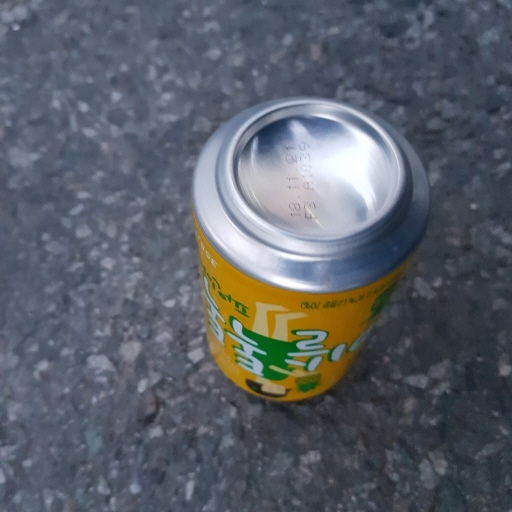Metal_0: (187, 95, 430, 406)
